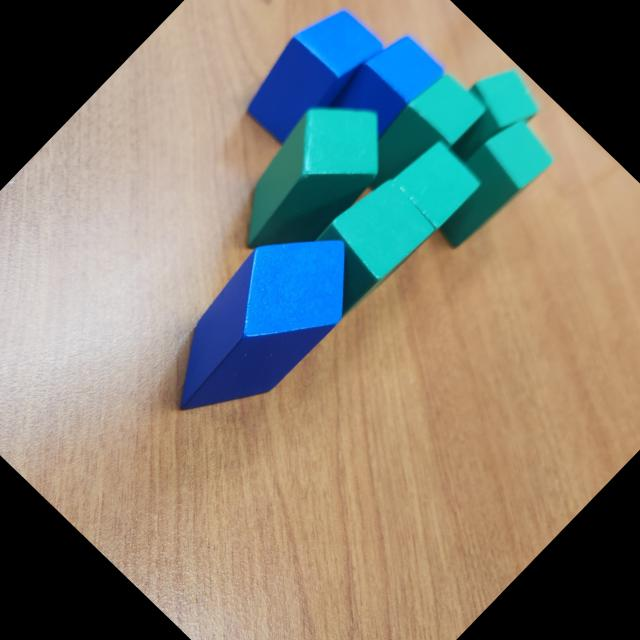blue: (136, 202, 381, 449), (231, 0, 390, 155), (321, 24, 448, 153)
green: (210, 77, 412, 280), (333, 130, 489, 288), (283, 172, 437, 328), (346, 64, 491, 210), (417, 112, 561, 258), (428, 54, 551, 178)
